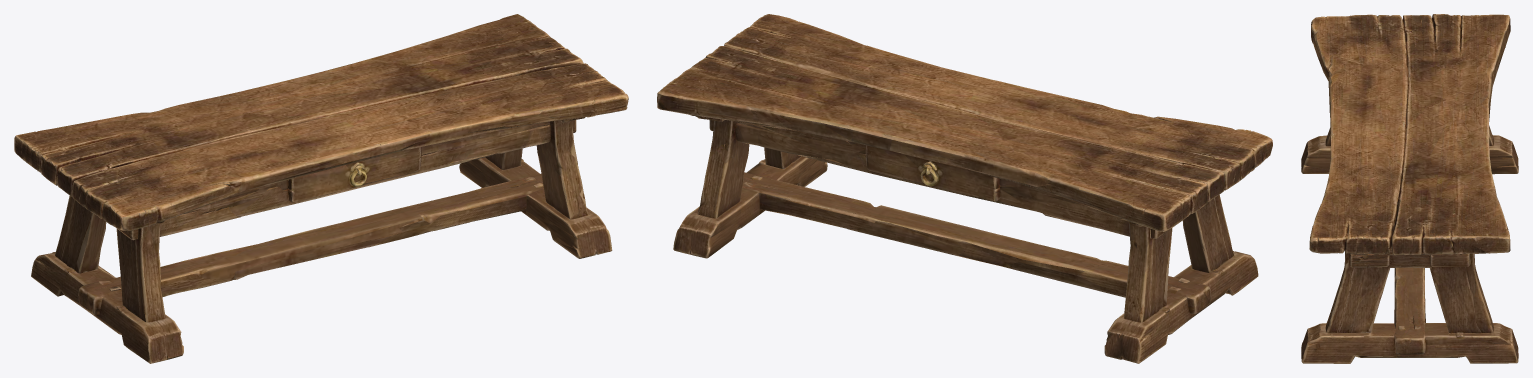
File: reading-table.glb
3 views of the same model, side by side, from view 1: azimuth 30°, elevation 25°; view 2: azimuth 150°, elevation 25°; view 3: azimuth 270°, elevation 25° (orthographic). The views are drawn at different scales.
Visible parts, largest first — view 1: Mesh_0; view 2: Mesh_0; view 3: Mesh_0.
Boxes of the visible parts, x1=… form: Mesh_0: x1=14, y1=14, x2=628, y2=363; Mesh_0: x1=657, y1=14, x2=1272, y2=363; Mesh_0: x1=1301, y1=14, x2=1518, y2=363.
Size of the model in its own units: 1.9 by 0.5399 by 0.7762.
Materials: 1 (1 with a texture image).
